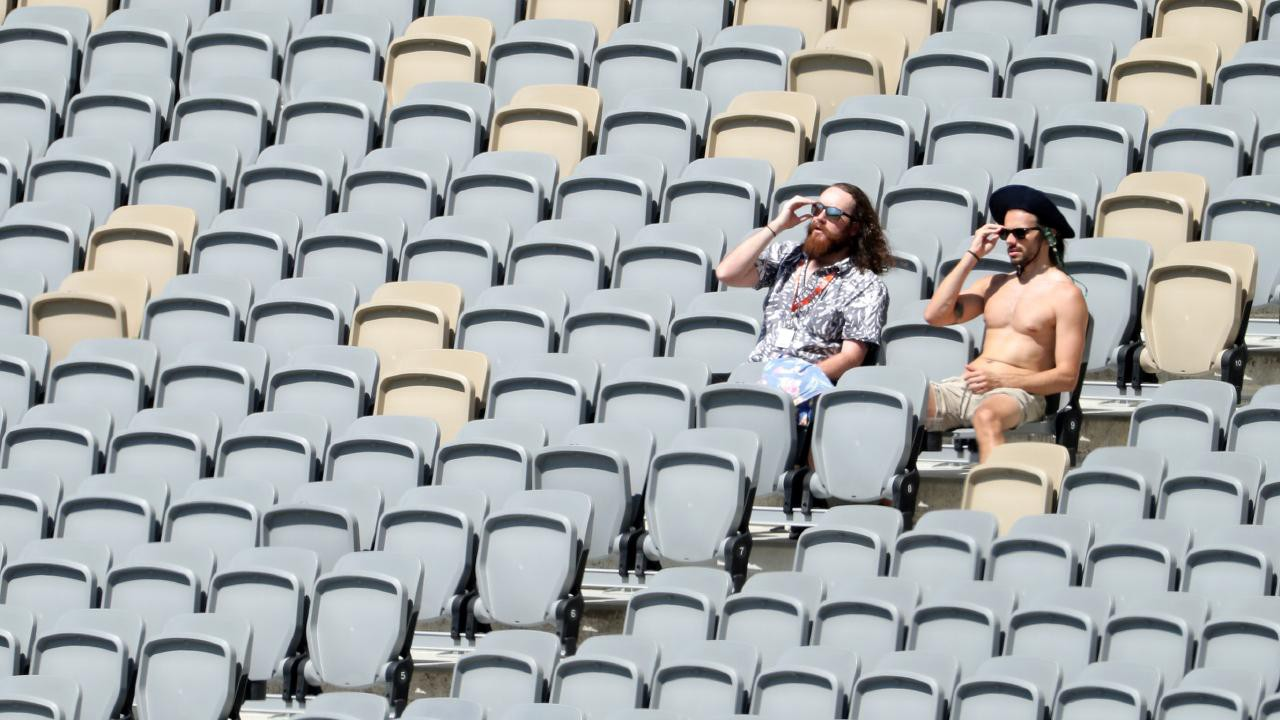Person: (926, 185, 1091, 445), (714, 183, 893, 367)
